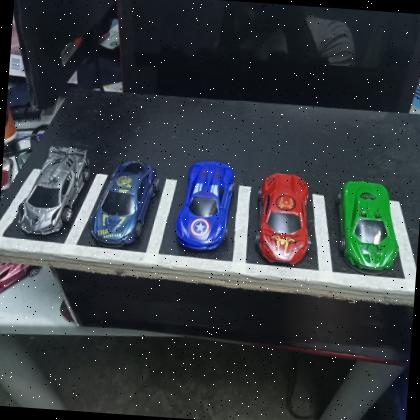Car: (15, 142, 91, 240), (331, 180, 403, 276), (88, 158, 160, 251), (174, 159, 235, 253), (254, 172, 314, 267)
